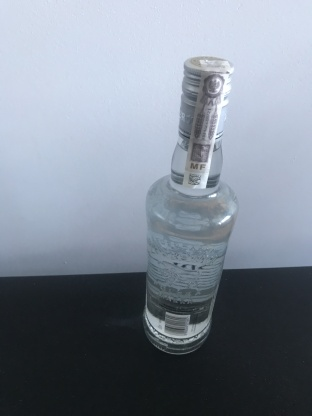nakretka: (176, 52, 236, 145)
